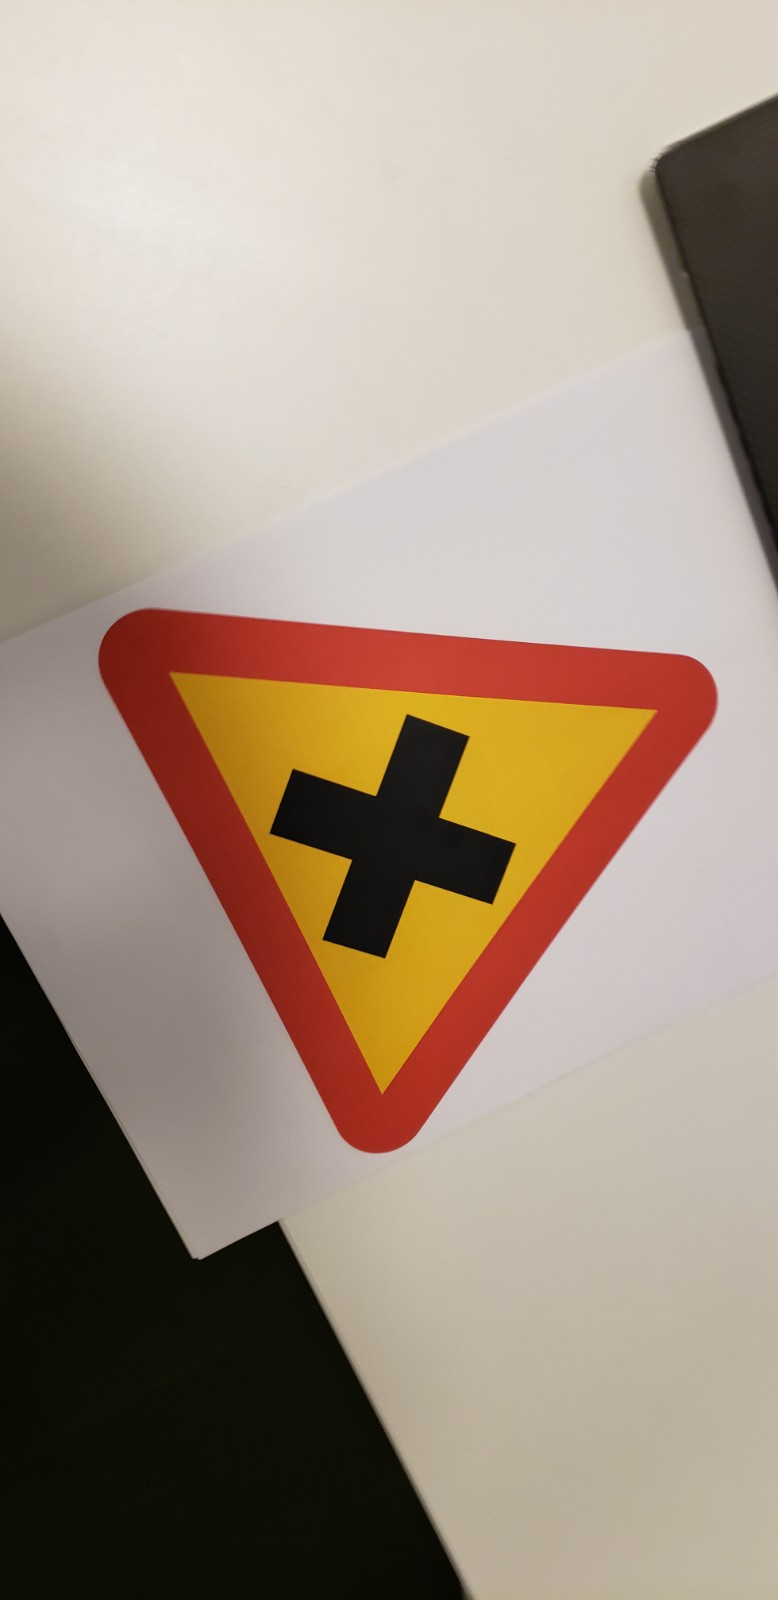junction: (42, 540, 667, 1312)
